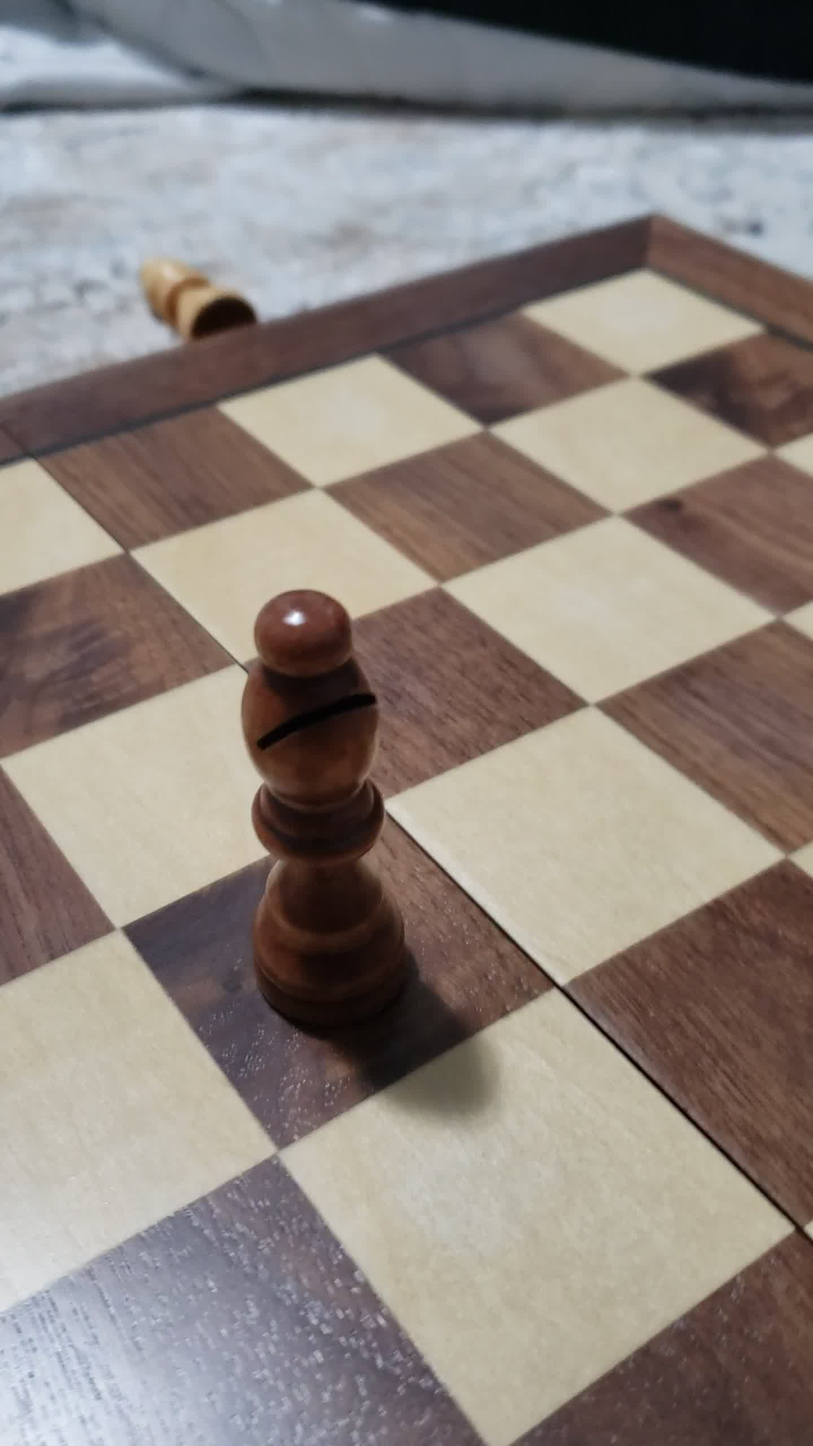black-bishop: (172, 570, 458, 1048)
